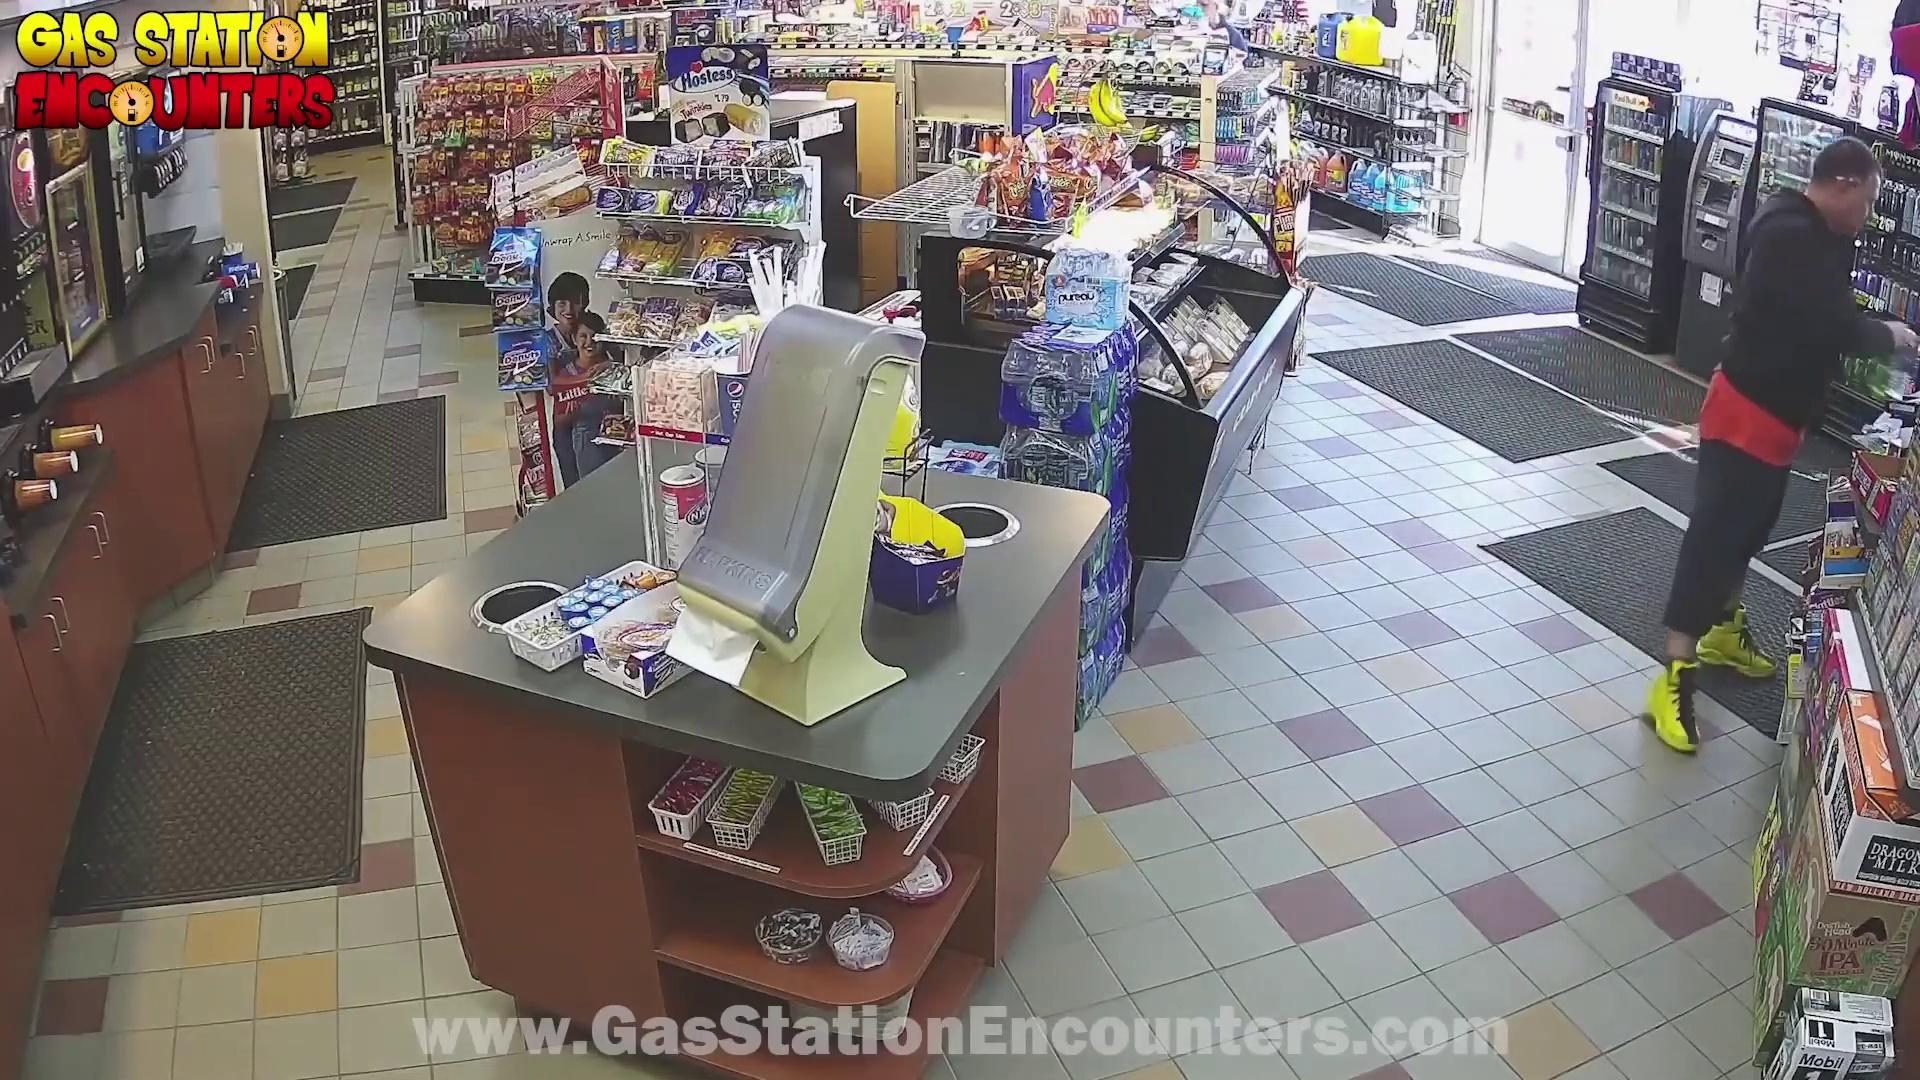Product: (1830, 328, 1887, 434)
Product-Picked: (1604, 120, 1920, 804)
